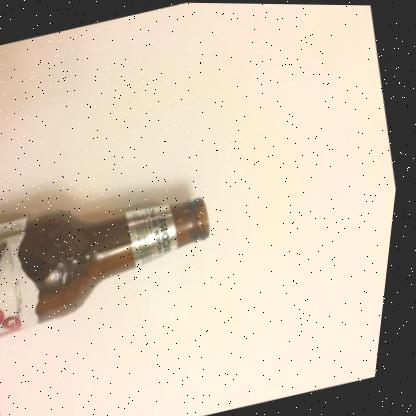Glass: (0, 196, 214, 337)
